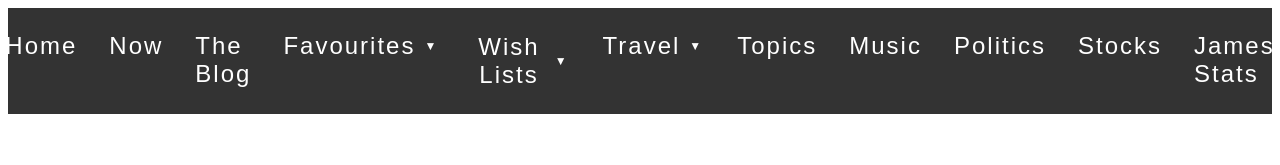
Scenario: Nav › Wish Lists dropdown › toggles when the Wish Lists button is clicked
Click the button "Wish Lists". click: (509, 61)
box: [472,32,546,90]
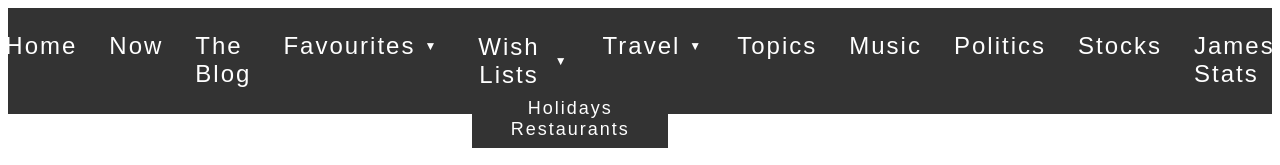
Now the link "Holidays" is shown, box [528,98,613,118]
Click the button "Wish Lists". click: (509, 61)
box: [472,32,546,90]
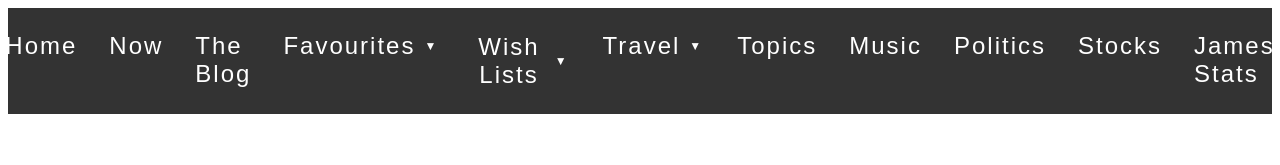
Now the link "Holidays" is gone
